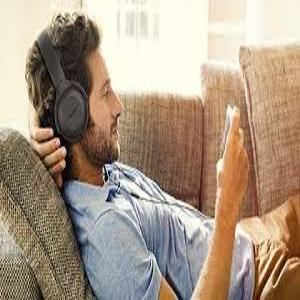Headphones: (36, 22, 97, 141)
